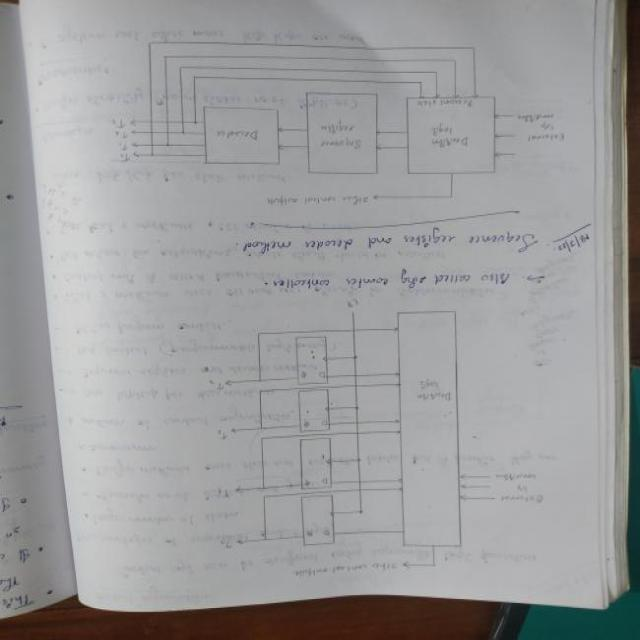Figure Detection - v3 Dataset Version2: (180, 296, 491, 580), (106, 31, 571, 220)
